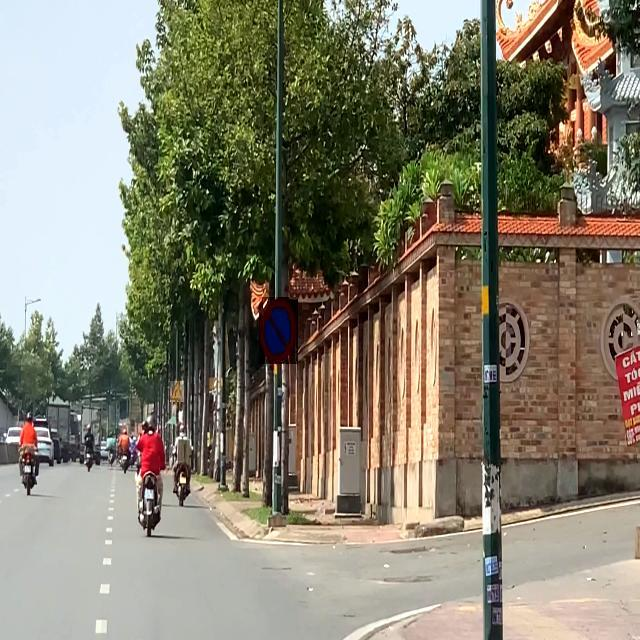P-131a: (259, 297, 298, 364)
W-201b: (170, 381, 184, 402)
